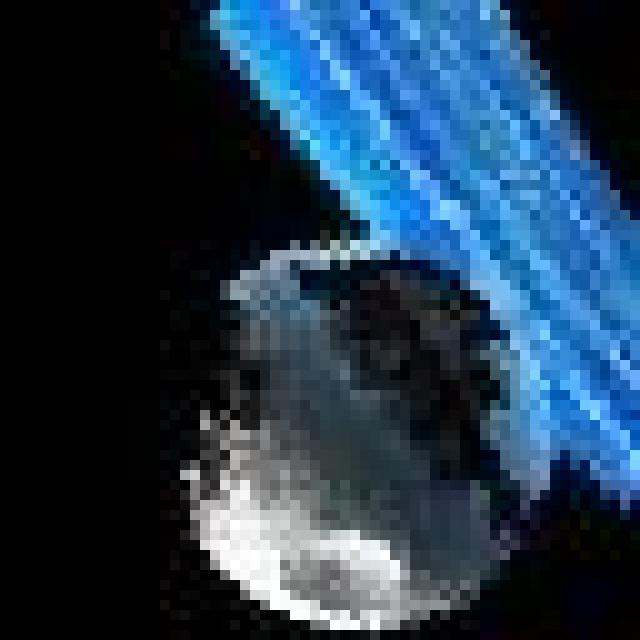Death Star: (158, 234, 572, 640)
